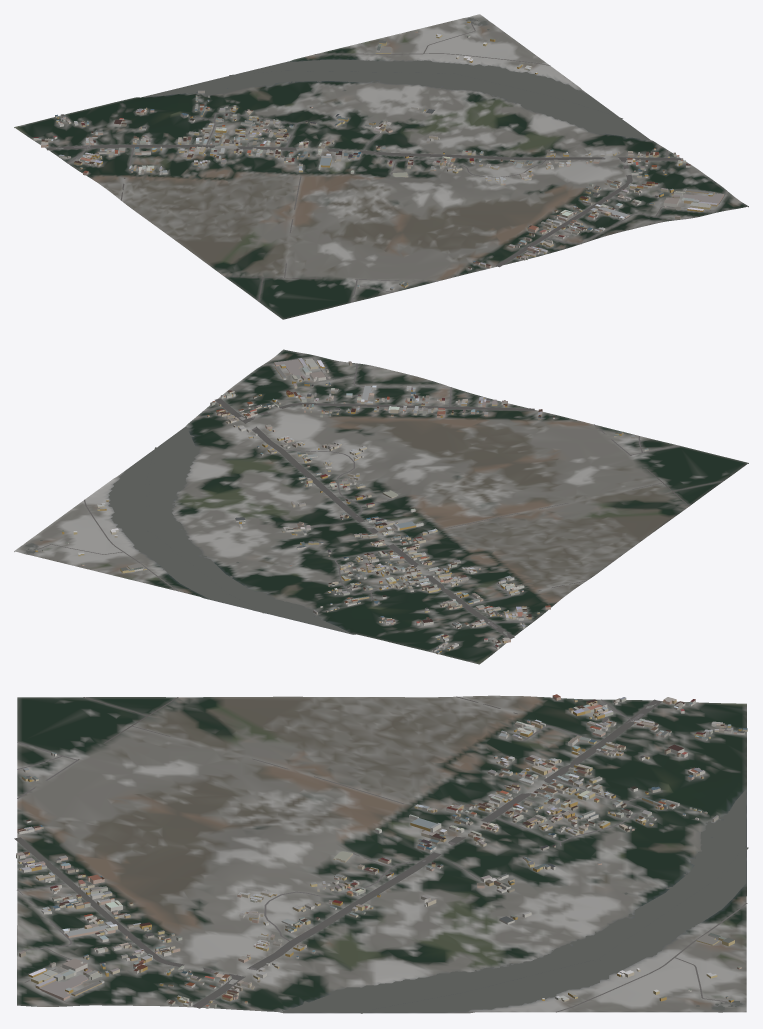
3 renders of one model, top to bottom at view 1: azimuth 30°, elevation 25°; view 2: azimuth 150°, elevation 25°; view 3: azimuth 270°, elevation 25°, orthographic. The views are drawn at different scales.
Visible parts, largest first — view 1: ground, buildings, water, roads; view 2: ground, buildings, water, roads; view 3: ground, buildings, water, roads.
Part boxes in pixels (x1,y1,x2,y2): ground: [14, 14, 748, 319]; buildings: [33, 20, 723, 290]; water: [143, 17, 649, 140]; roads: [46, 22, 726, 302]; ground: [14, 349, 748, 664]; buildings: [35, 358, 648, 654]; water: [25, 426, 350, 633]; roads: [37, 356, 724, 638]; ground: [17, 695, 746, 1013]; buildings: [16, 694, 747, 1008]; water: [282, 790, 748, 1013]; roads: [14, 696, 747, 1012].
Bounding box in the file's own units: 1410 × 35.2 × 1411.
